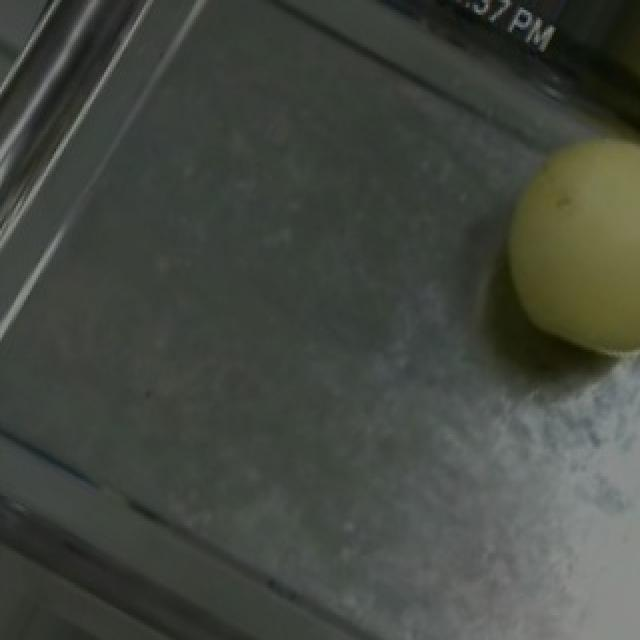Fruit: (460, 92, 640, 392)
